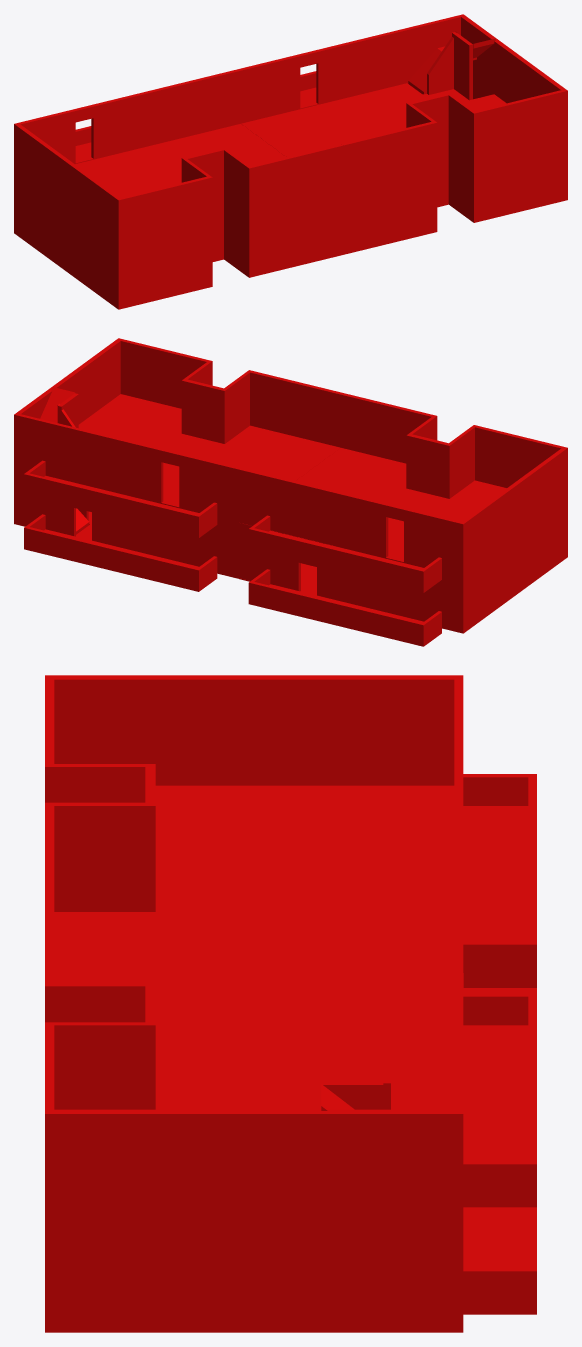
File: SM_Bld_HighRise_Large_01_Interior_Stack_01_Collision.fbx
The picture shows the model from 3 angles, top to bottom: view 1: azimuth 30°, elevation 25°; view 2: azimuth 150°, elevation 25°; view 3: azimuth 270°, elevation 25°; orthographic projection. The views are drawn at different scales.
Visible parts, largest first — view 1: SM_Bld_HighRise_Large_01_Interior_Stack_01_Collision; view 2: SM_Bld_HighRise_Large_01_Interior_Stack_01_Collision; view 3: SM_Bld_HighRise_Large_01_Interior_Stack_01_Collision.
Boxes of the visible parts, <box> form: SM_Bld_HighRise_Large_01_Interior_Stack_01_Collision: <box>14,14,567,309</box>; SM_Bld_HighRise_Large_01_Interior_Stack_01_Collision: <box>14,338,567,646</box>; SM_Bld_HighRise_Large_01_Interior_Stack_01_Collision: <box>45,675,536,1332</box>.
Size of the model in its own units: 2581 by 641 by 1224.
